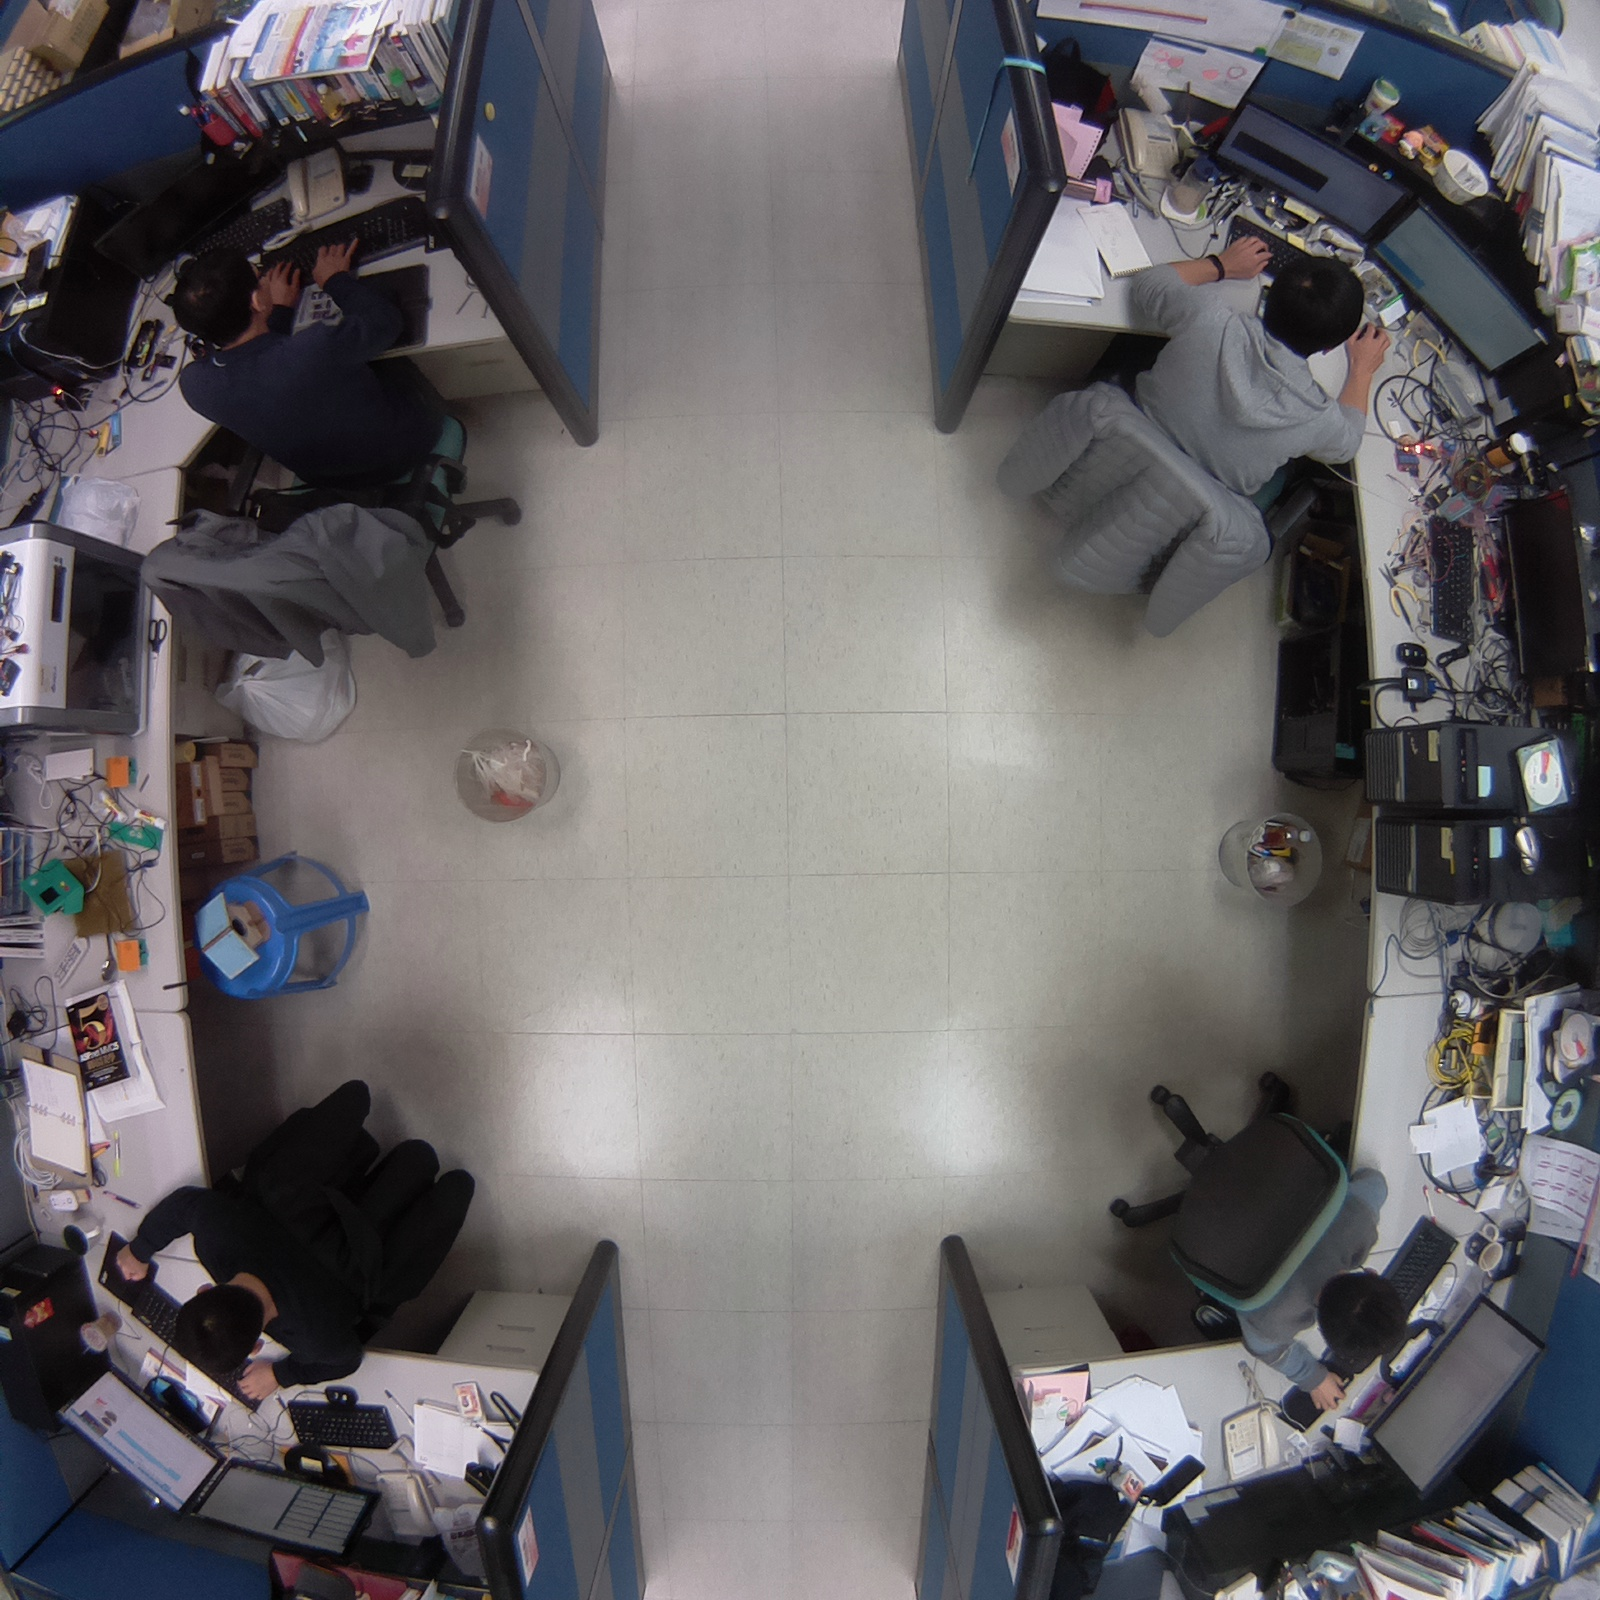head: (1255, 238, 1370, 359), (161, 244, 283, 355), (1310, 1263, 1419, 1378), (170, 1265, 276, 1380)
sitting: (122, 231, 524, 681), (976, 220, 1393, 647), (105, 1047, 496, 1404), (1099, 1055, 1433, 1415)
